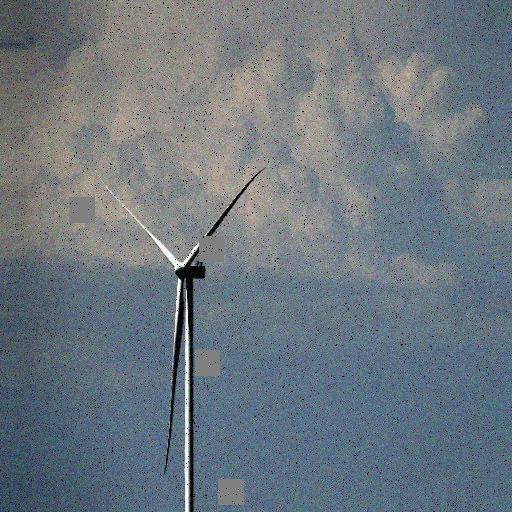wind turbine: (99, 166, 266, 506)
